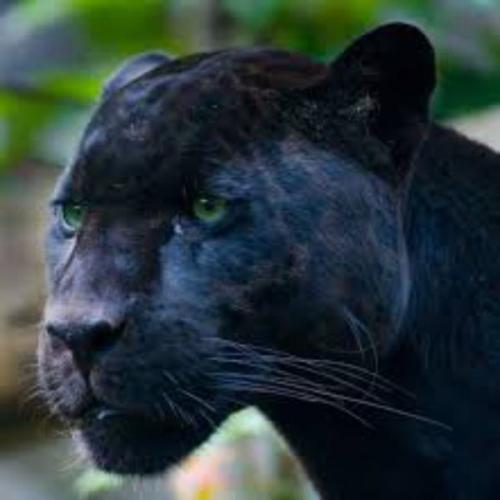panther-endangered: (36, 22, 490, 490)
